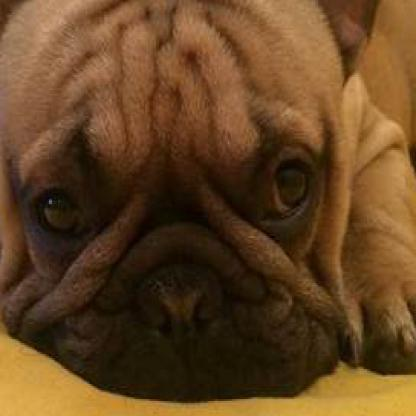dog: (1, 0, 415, 405)
